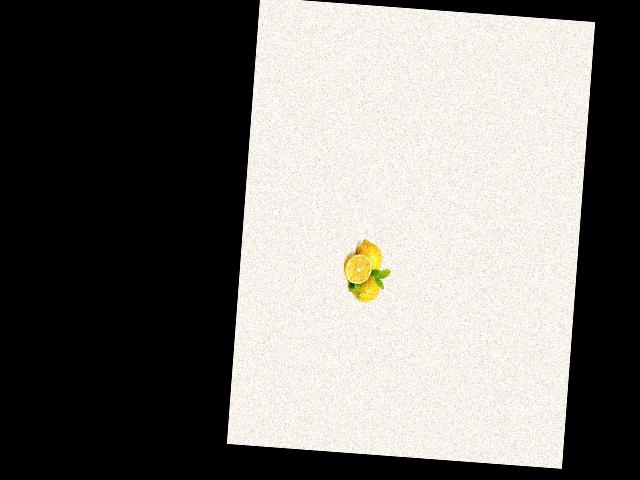lemon: (349, 270, 383, 305)
